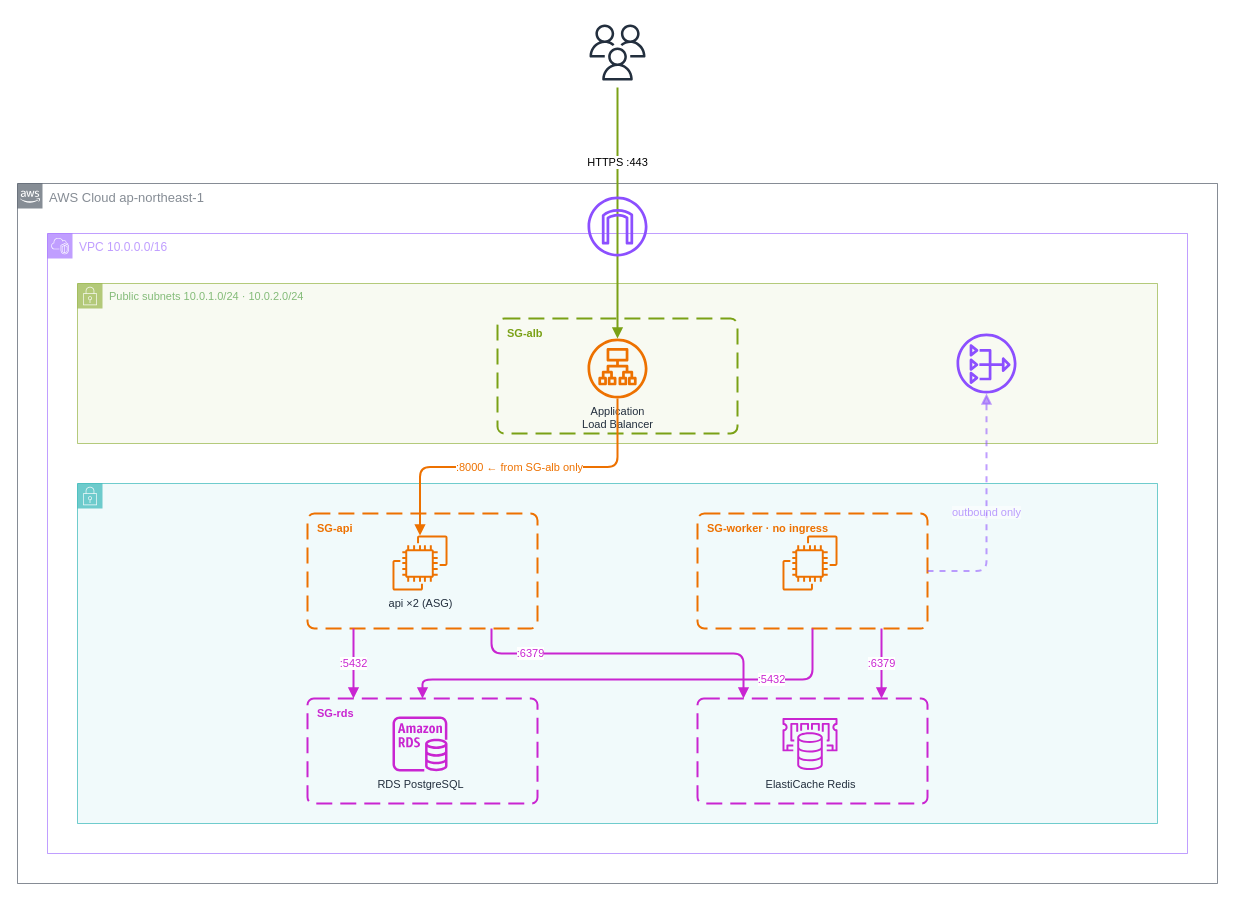
This 1235x901 diagram has some shape labels left out. The shapes that lost their labels are listed below. From the top down, each one's box as (x1, y1, x2, y2) in pixels, then its label:
(582, 16, 652, 88): Internet 0.0.0.0/0
(587, 196, 647, 256): Internet Gateway
(956, 333, 1016, 393): NAT Gateway
(782, 535, 837, 590): worker ×2 (ASG)
(76, 482, 1158, 824): Private subnets 10.0.11.0/24 · 10.0.12.0/24
(696, 697, 928, 804): SG-redis
